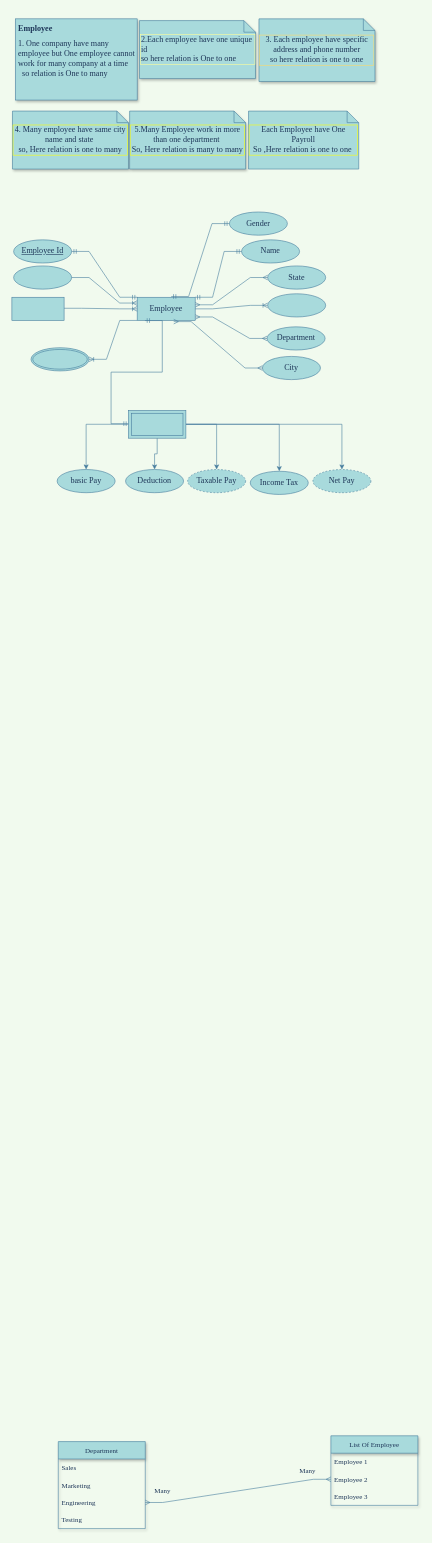
This 432x1543 diagram has some shape labels left out. The centre of each missing label's shape, as x and y in pixels:
Address: (x=296, y=305)
Company: (x=37, y=308)
Date Of Joining: (x=42, y=277)
Payroll: (x=157, y=424)
Phone Number: (x=59, y=359)
